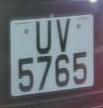5: (15, 54, 38, 95), (70, 50, 89, 90)
6: (53, 53, 73, 92)
7: (35, 54, 55, 95)
U: (33, 16, 55, 59)
V: (53, 16, 74, 56)
